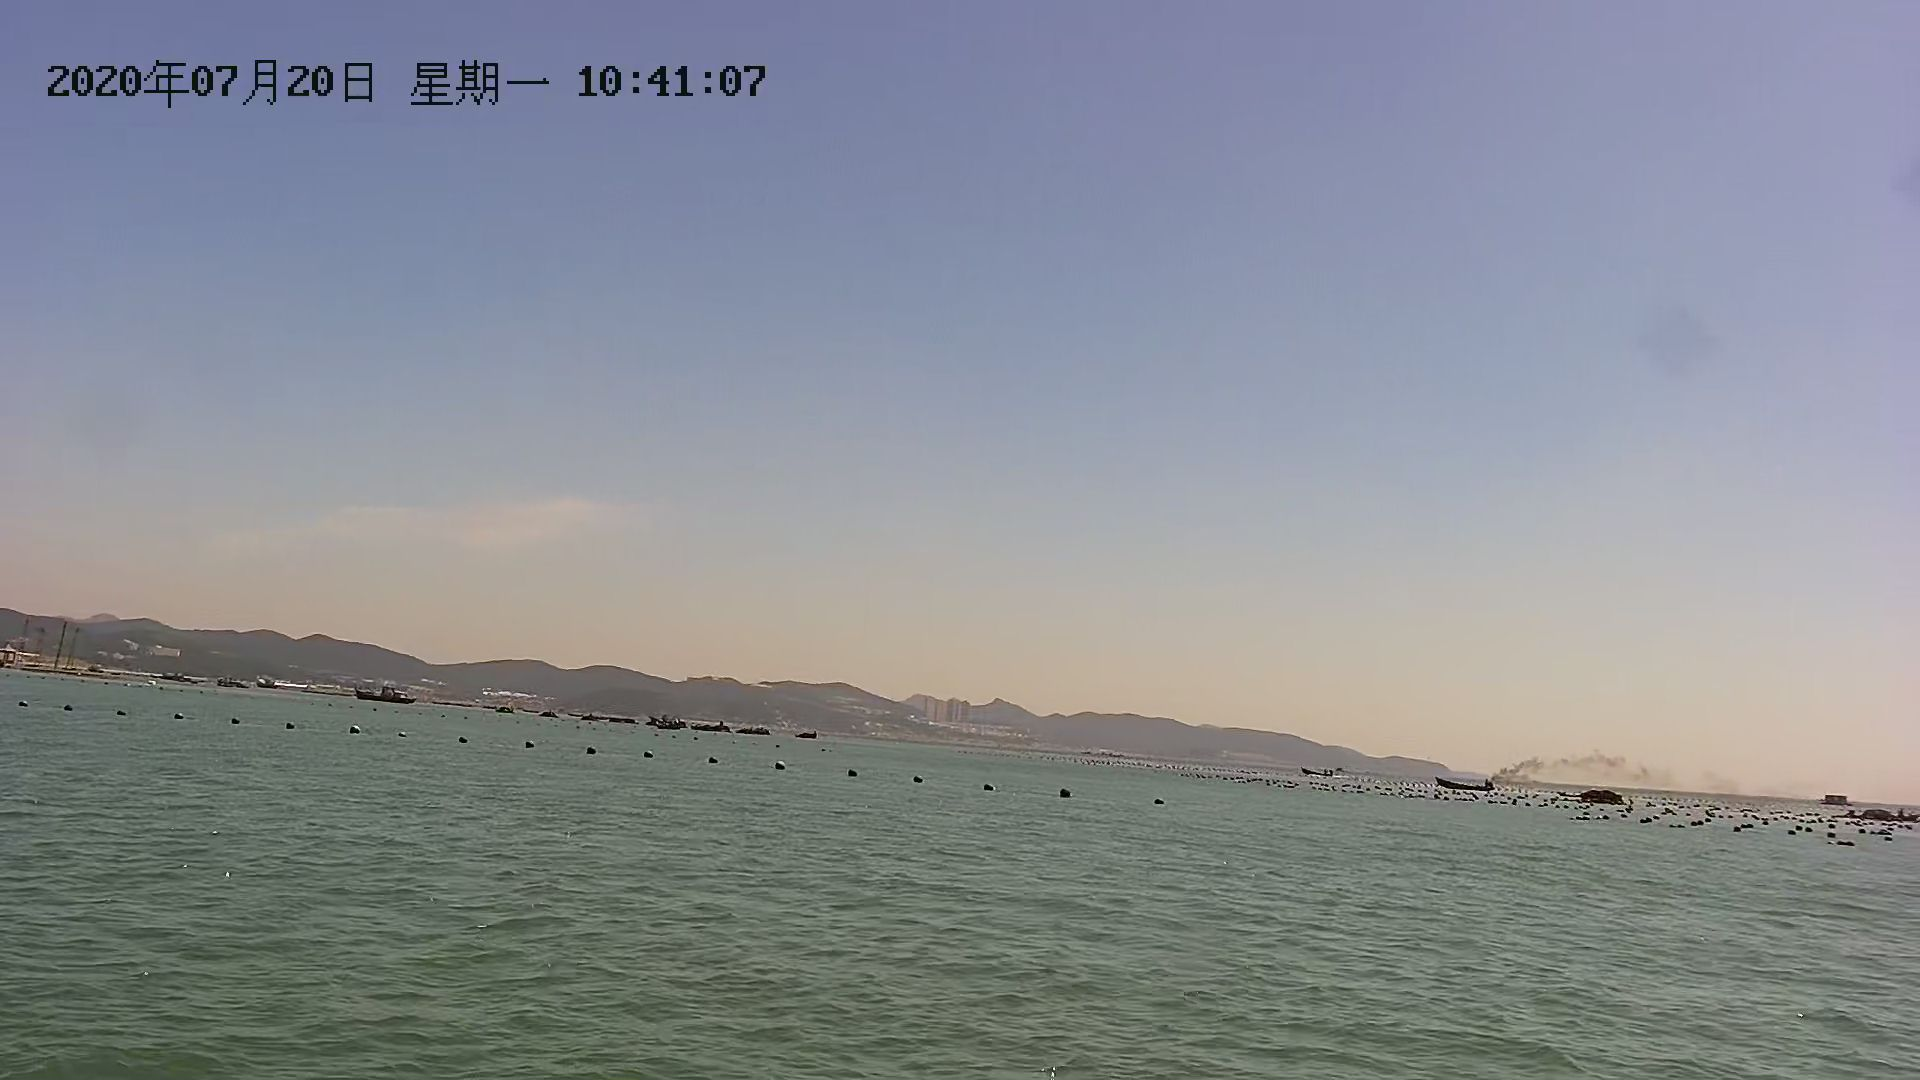boat: (1433, 774, 1499, 796)
rubbish: (1844, 806, 1920, 827)
ship: (347, 683, 418, 705)
